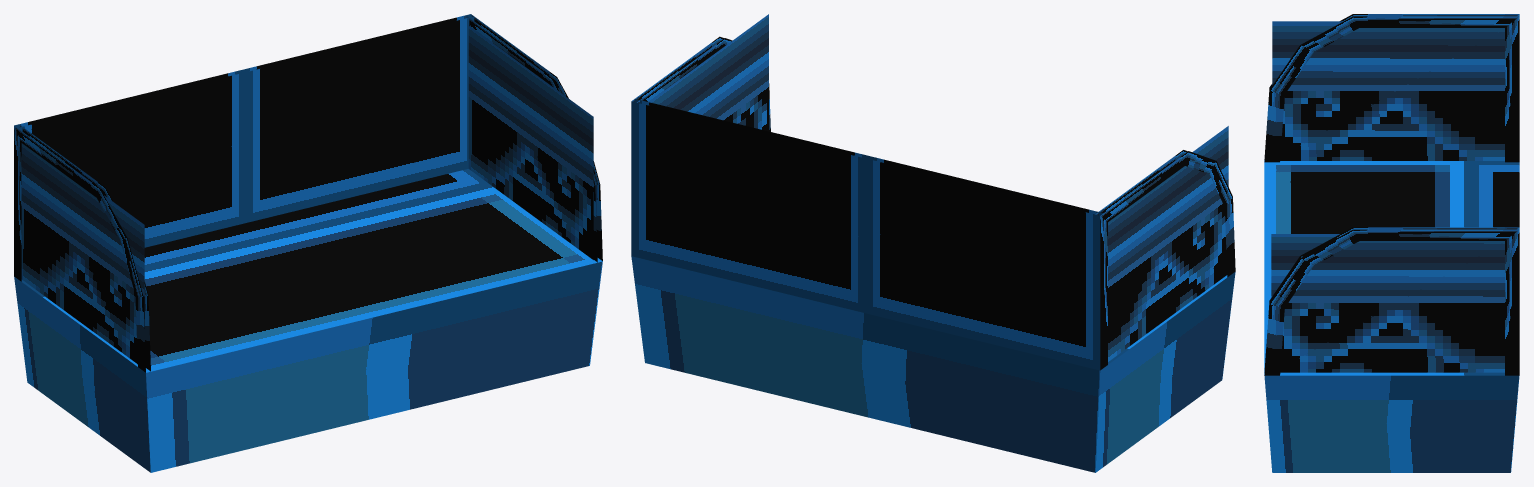
The picture shows the model from 3 angles, left to right: view 1: azimuth 30°, elevation 25°; view 2: azimuth 150°, elevation 25°; view 3: azimuth 270°, elevation 25°; orthographic projection. The views are drawn at different scales.
Parts seen in each view (by area): view 1: 3878kg3case06; view 2: 3878kg3case06; view 3: 3878kg3case06.
Part boxes in pixels (box(x1,y1,x2,y2)): 3878kg3case06: box(14, 14, 602, 472); 3878kg3case06: box(631, 14, 1235, 472); 3878kg3case06: box(1264, 14, 1519, 472).
Bounding box in the file's own units: 2 × 1.07 × 1.
4 materials, 4 textured.
